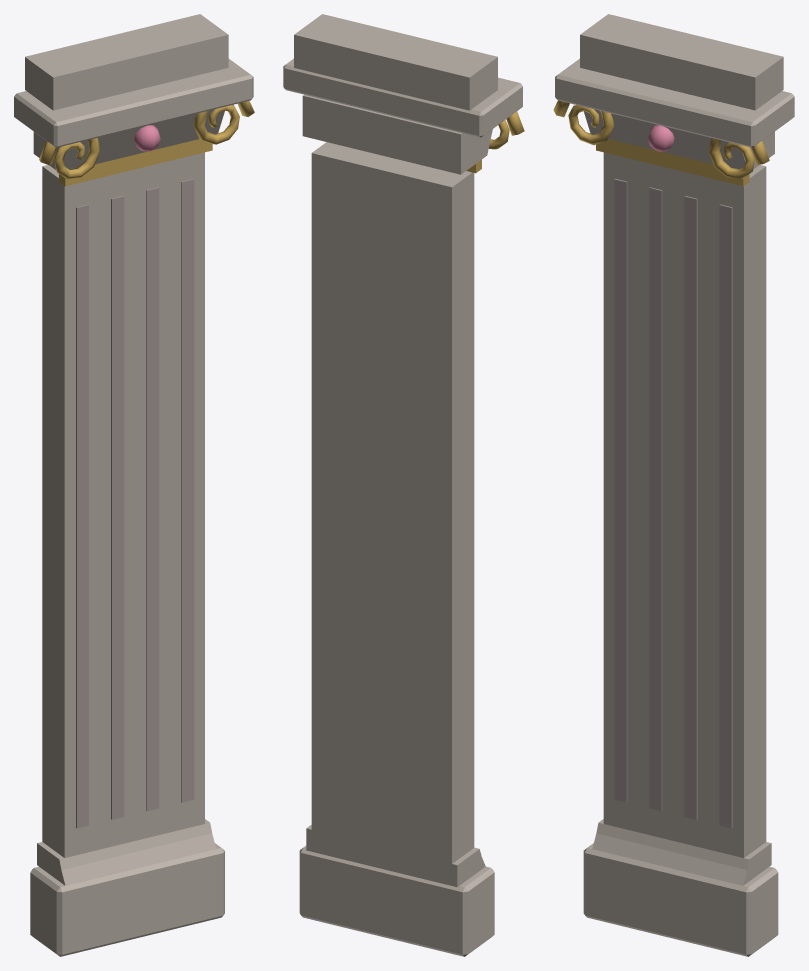
Rendered from facade_pilaster.glb.
The picture shows the model from 3 angles, left to right: view 1: azimuth 30°, elevation 25°; view 2: azimuth 150°, elevation 25°; view 3: azimuth 330°, elevation 25°; orthographic projection.
Parts seen in each view (by area): view 1: facade_pilaster; view 2: facade_pilaster; view 3: facade_pilaster.
Boxes of the visible parts, bbox=[...] form: facade_pilaster: bbox=[14, 14, 254, 956]; facade_pilaster: bbox=[283, 14, 524, 956]; facade_pilaster: bbox=[553, 14, 794, 956].
Size of what is drawn, in the model's own units: 1.22 by 4.8 by 0.42.
